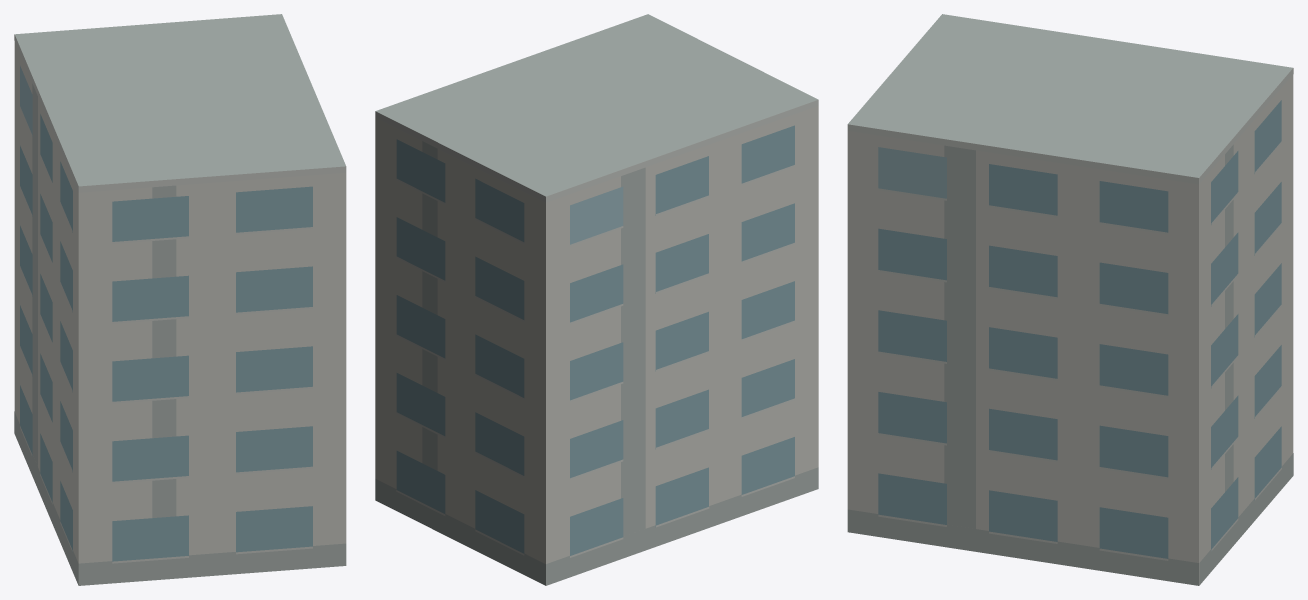
The model's file is residential-05a0b405-0cd2-40a2-b6d0-276b552b73b4.glb.
3 views of the same model, side by side, from view 1: azimuth 30°, elevation 25°; view 2: azimuth 150°, elevation 25°; view 3: azimuth 270°, elevation 25° (orthographic). The views are drawn at different scales.
Visible parts, largest first — view 1: residential-05a0b405-0cd2-40a2-b6d0-276b552b73b4.tmp; view 2: residential-05a0b405-0cd2-40a2-b6d0-276b552b73b4.tmp; view 3: residential-05a0b405-0cd2-40a2-b6d0-276b552b73b4.tmp.
Part boxes in pixels (box(x1,y1,x2,y2)): residential-05a0b405-0cd2-40a2-b6d0-276b552b73b4.tmp: box(14, 14, 346, 585); residential-05a0b405-0cd2-40a2-b6d0-276b552b73b4.tmp: box(375, 14, 818, 585); residential-05a0b405-0cd2-40a2-b6d0-276b552b73b4.tmp: box(847, 14, 1293, 585).
Bounding box in the file's own units: 13.16 × 15.25 × 15.12.
